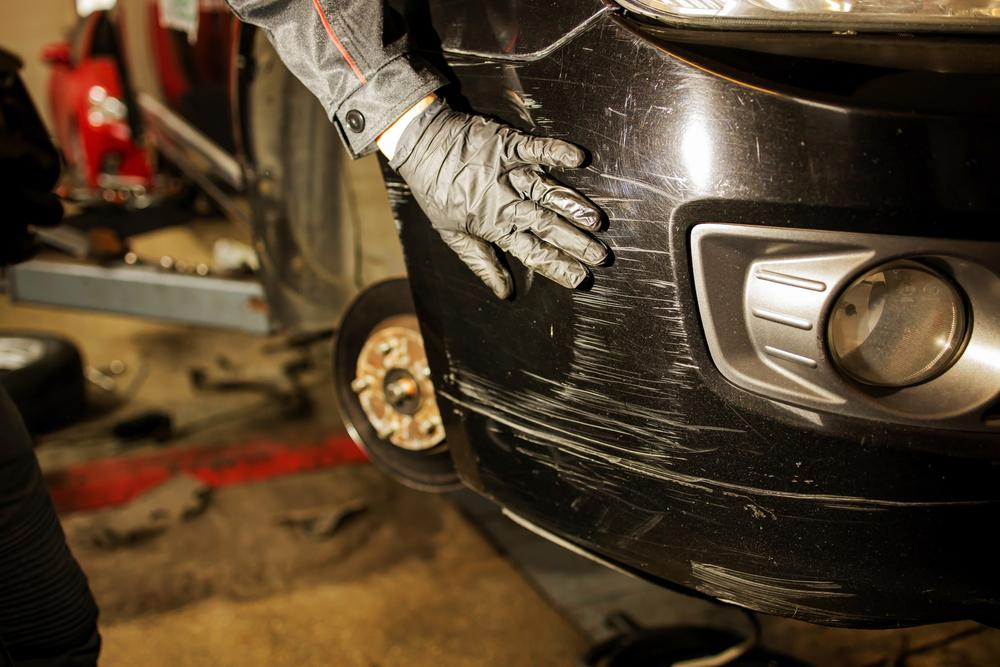scratch: (453, 92, 990, 627)
